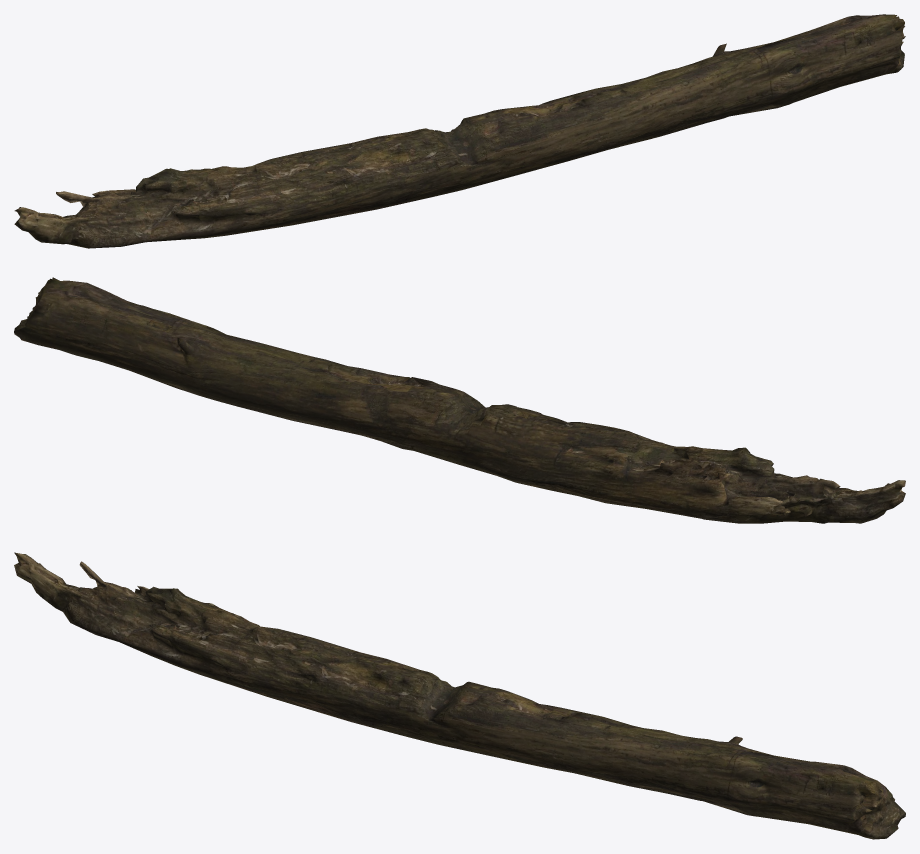
File: dead_tree_trunk.glb
3 renders of one model, top to bottom at view 1: azimuth 30°, elevation 25°; view 2: azimuth 150°, elevation 25°; view 3: azimuth 330°, elevation 25°, orthographic.
Visible parts, largest first — view 1: dead_tree_trunk_LOD0; view 2: dead_tree_trunk_LOD0; view 3: dead_tree_trunk_LOD0.
Boxes of the visible parts, x1,y1,x2,y2 form: dead_tree_trunk_LOD0: (14, 14, 905, 248); dead_tree_trunk_LOD0: (14, 277, 905, 523); dead_tree_trunk_LOD0: (14, 552, 905, 839).
Size of what is drawn, in the model's own units: 3.05 by 0.2867 by 0.2774.
Materials: 1 (1 with a texture image).
